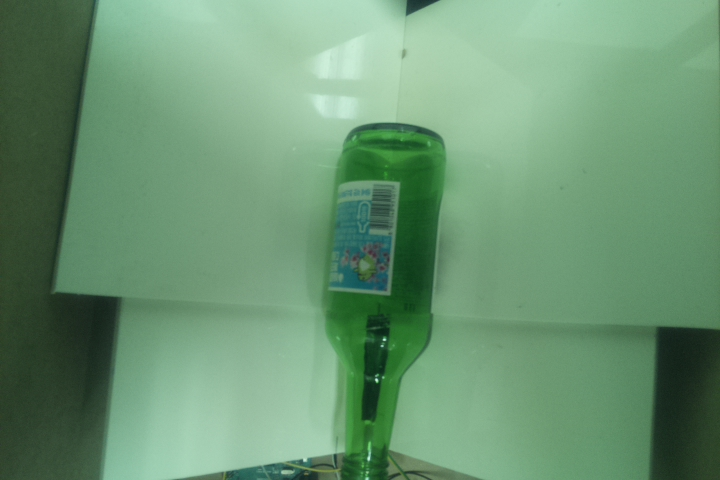soju: (318, 120, 445, 480)
